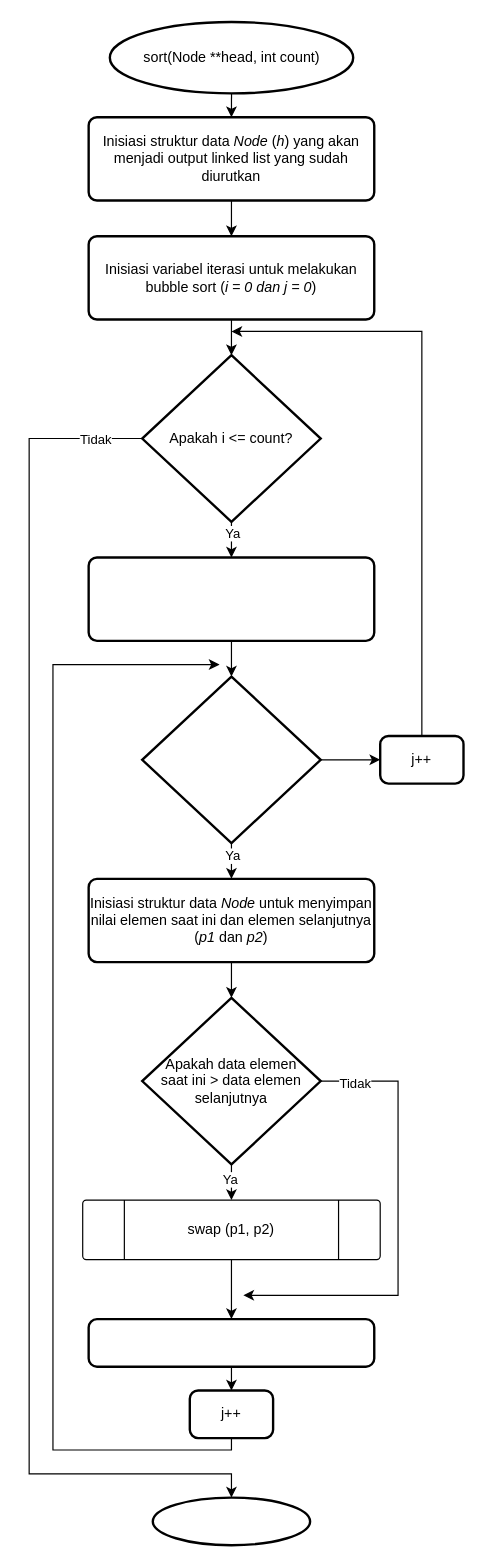
Image size: 486x1566. Some labels were removed from this diagram. Here are the shapes that lost their labels. From the top down, the centre of each, then its label:
At (231,598): "Assign linked list utama ( head ) ke dalam variabel sementara ( h )".
At (230,759): "Apakah j < count - i - 1?".
At (231,1342): "Lanjut ke elemen linked list berikutnya".
At (231,1521): "return".
